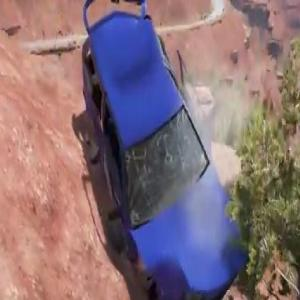serious: (76, 0, 255, 300)
